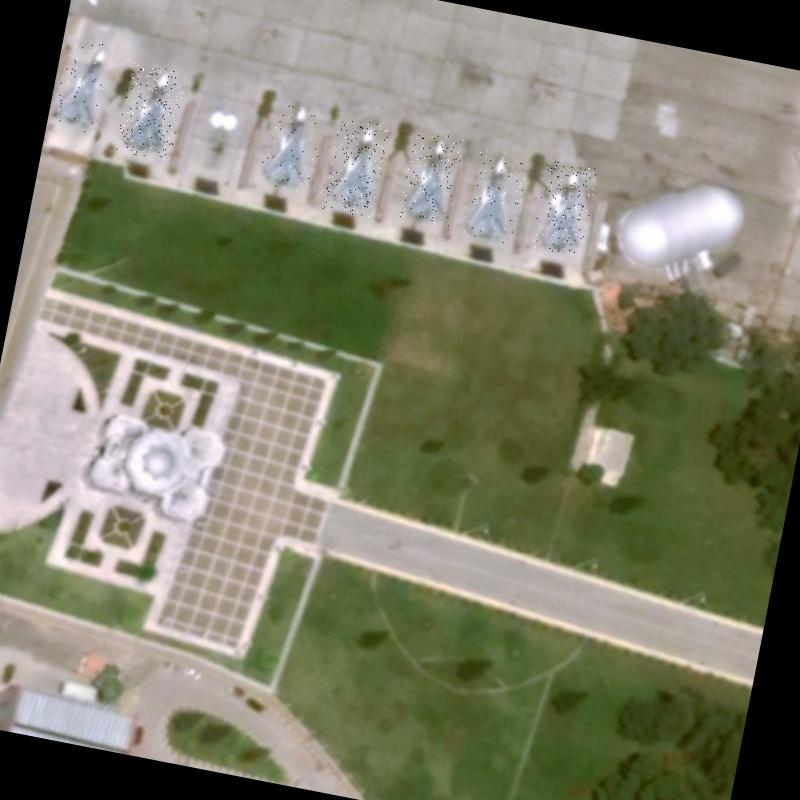A20: (114, 62, 186, 162), (322, 116, 390, 218), (257, 95, 327, 193), (530, 158, 598, 258), (398, 129, 465, 228), (462, 148, 530, 244), (51, 36, 116, 134)
